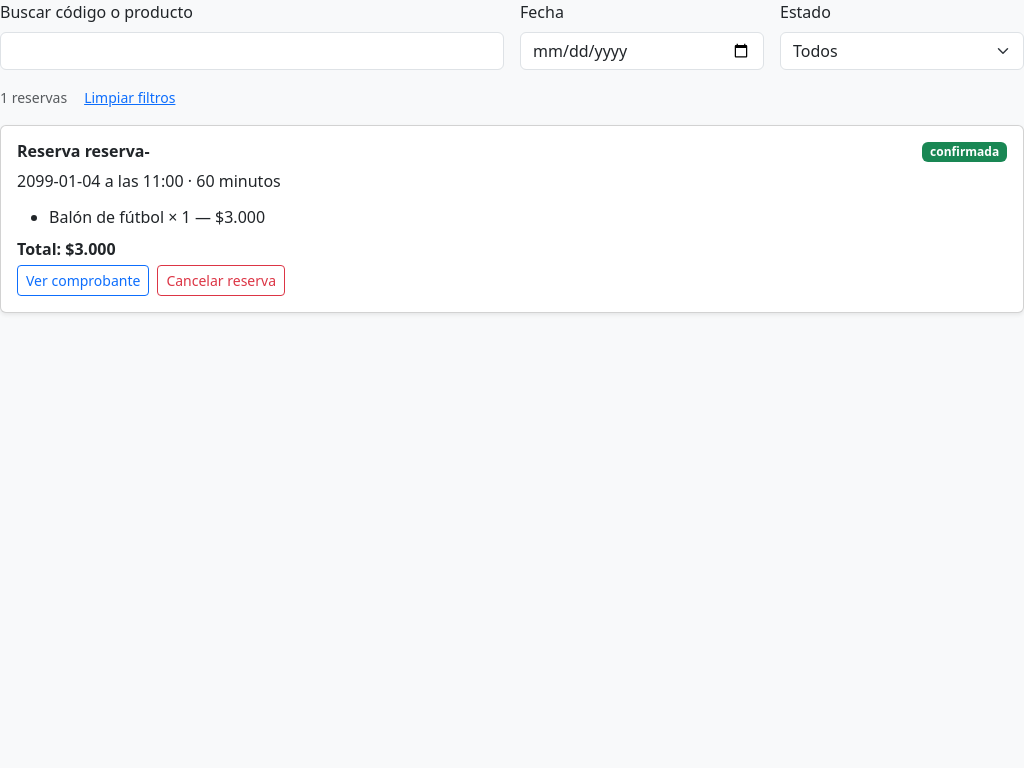
DSY1104 — diez pruebas unitarias de componentes React con Vitest › 10 requiere confirmar la cancelación y Volver conserva la reserva
What coordinates should you click on to do the following:
click the button "Cancelar reserva"
I would click on:
 (221, 281)
Its box is [157, 265, 285, 296].
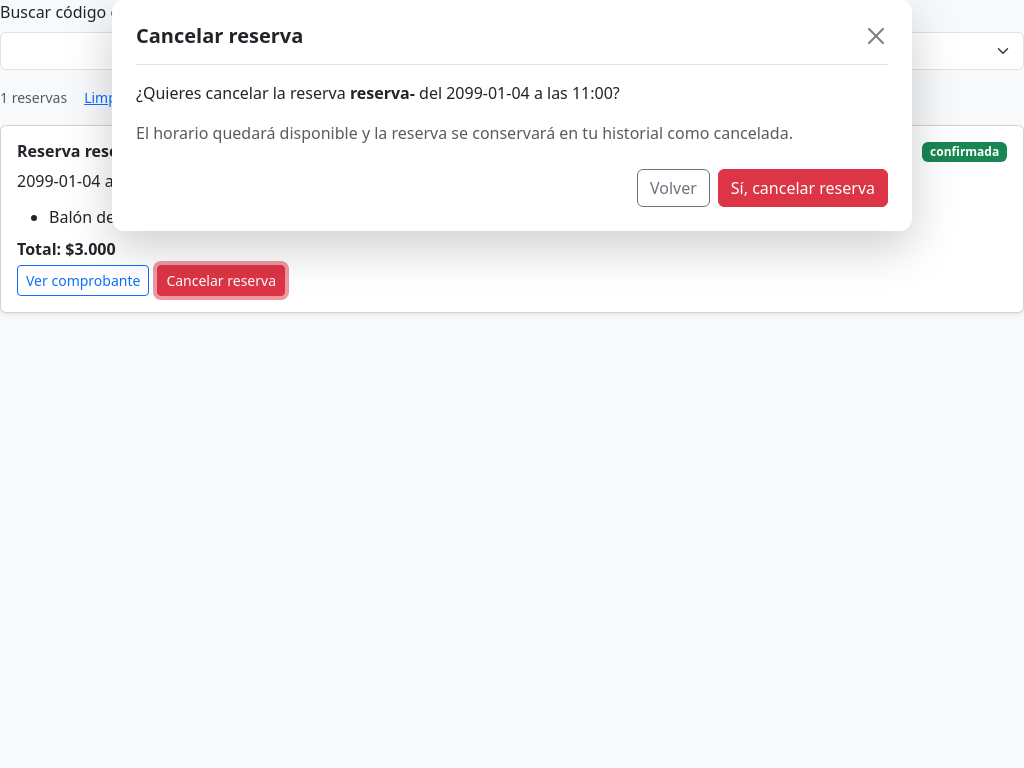
What coordinates should you click on to do the following:
click the button "Volver"
I would click on:
 (673, 188)
Its box is [637, 169, 710, 207].
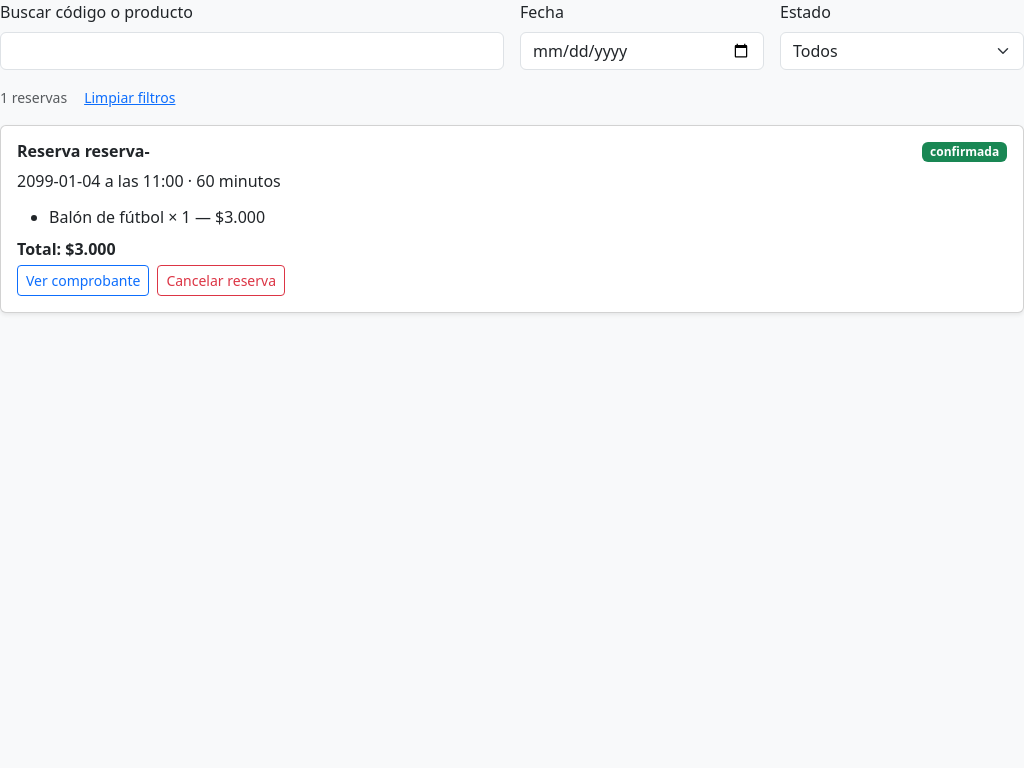
Now the dialog is gone
What coordinates should you click on to do the following:
click the button "Cancelar reserva"
I would click on:
 (221, 281)
Its box is [157, 265, 285, 296].
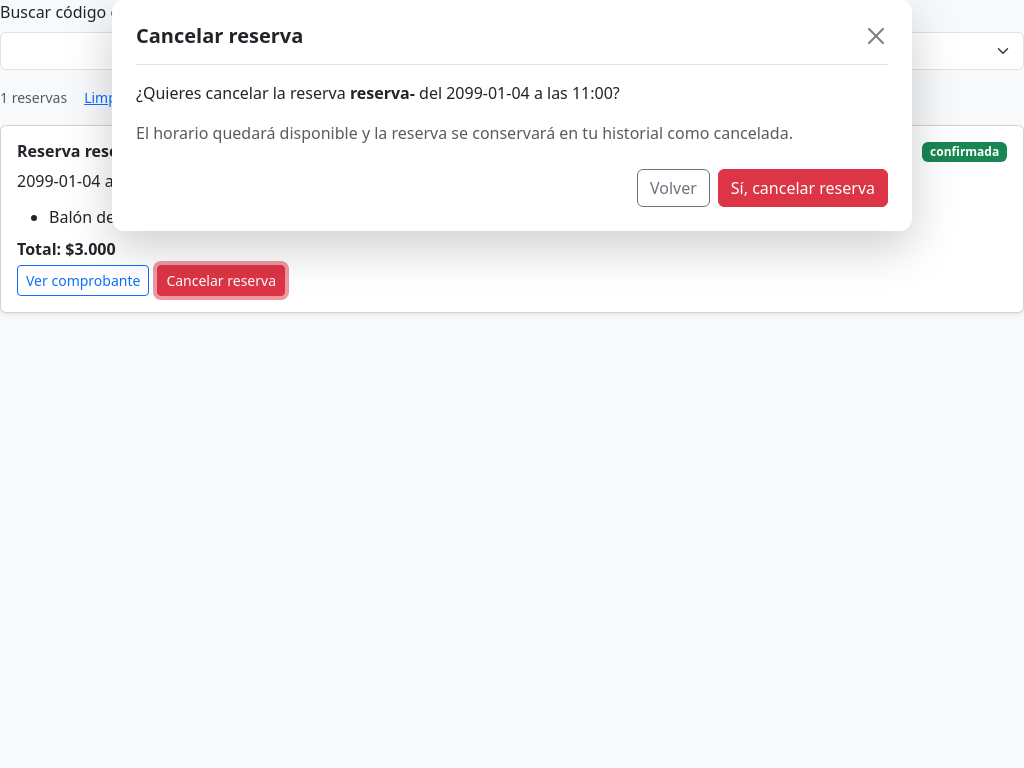
What coordinates should you click on to do the following:
click the button "Sí, cancelar reserva"
I would click on:
 (803, 188)
Its box is [718, 169, 888, 207].
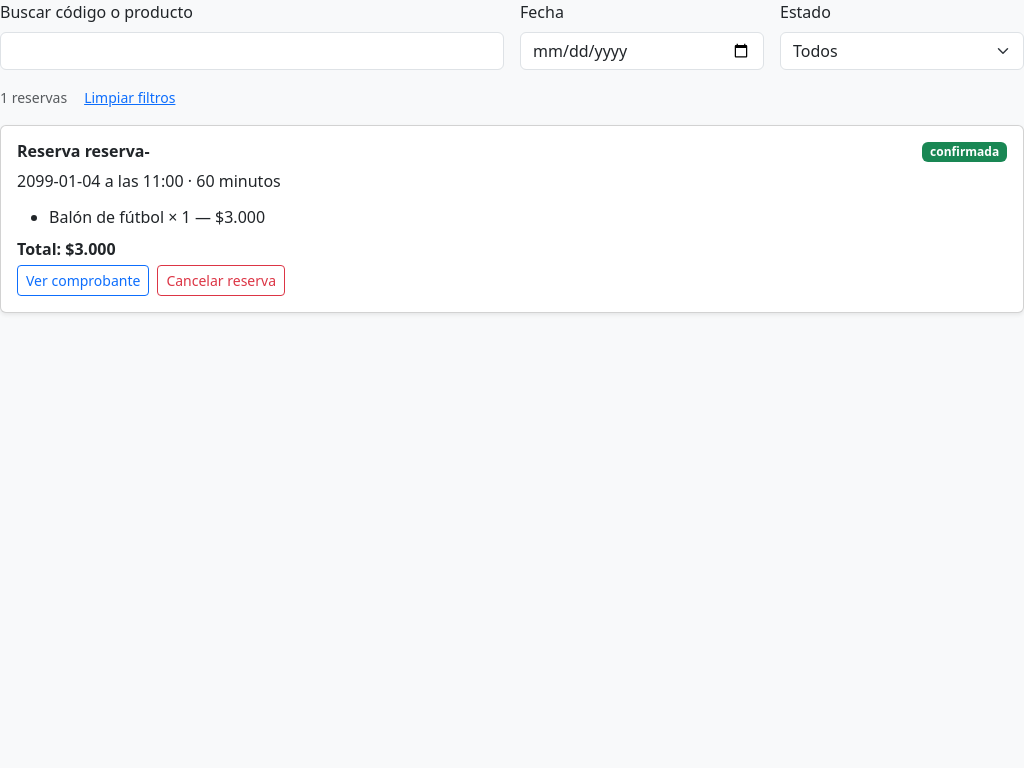
Now the dialog is gone
